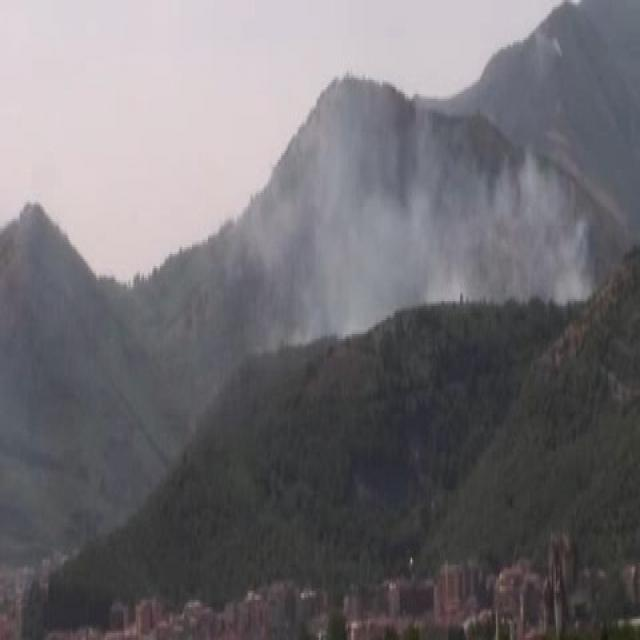smoke: (314, 152, 586, 301)
